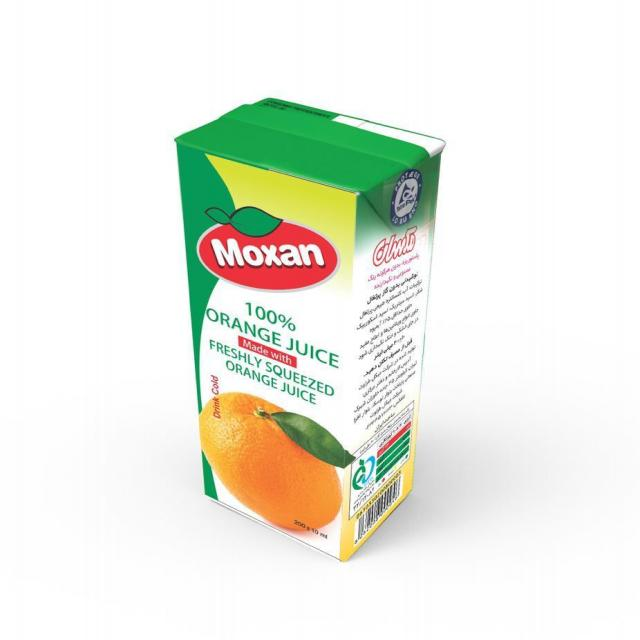non_white_jug: (163, 65, 453, 572)
